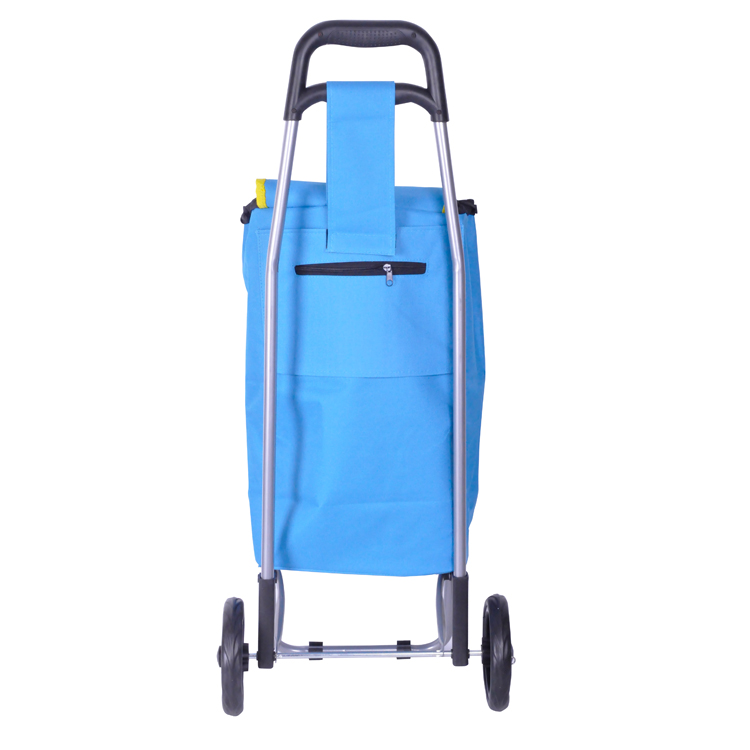luggage: (217, 16, 518, 717)
